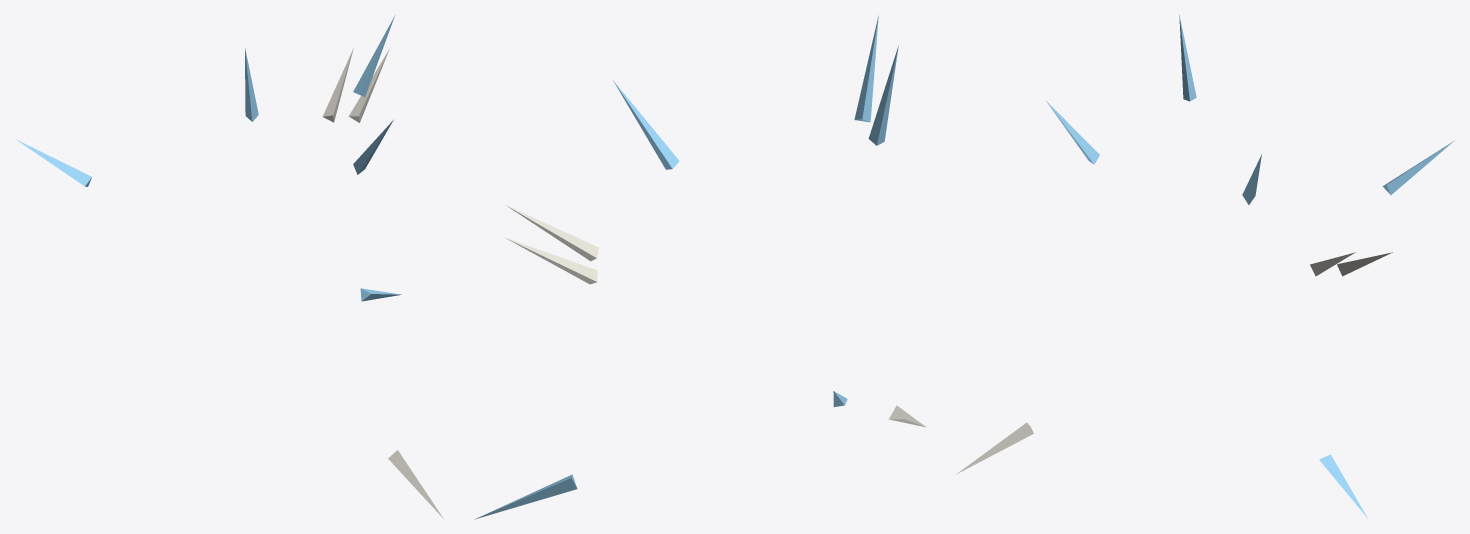
The model's file is frame_4.glb.
3 views of the same model, side by side, from view 1: azimuth 30°, elevation 25°; view 2: azimuth 150°, elevation 25°; view 3: azimuth 270°, elevation 25° (orthographic). The views are drawn at different scales.
Visible parts, largest first — view 1: effect_electric_spark_frame_4; view 2: effect_electric_spark_frame_4; view 3: effect_electric_spark_frame_4.
Part boxes in pixels (x1,y1,x2,y2): effect_electric_spark_frame_4: [15, 15, 443, 518]; effect_electric_spark_frame_4: [474, 16, 925, 519]; effect_electric_spark_frame_4: [956, 15, 1454, 518].
Bounding box in the file's own units: 6.2 × 7.11 × 7.73.
